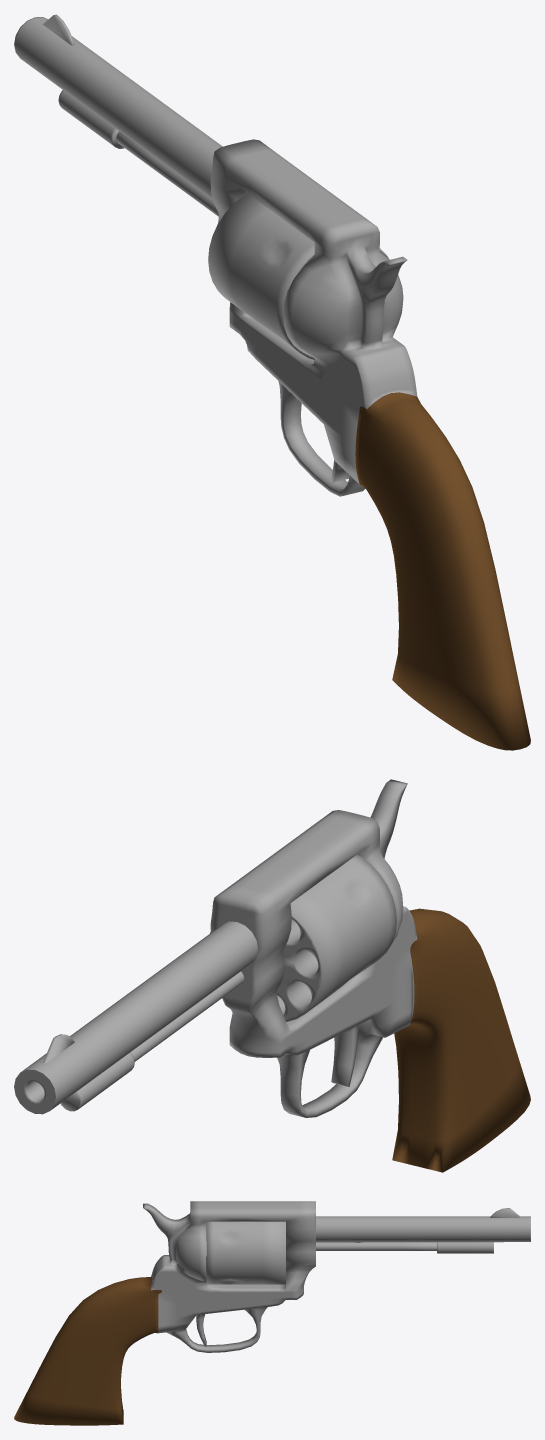
File: Item_Revolver 1.fbx
3 views of the same model, one above another, from view 1: azimuth 30°, elevation 25°; view 2: azimuth 150°, elevation 25°; view 3: azimuth 270°, elevation 25° (orthographic). The views are drawn at different scales.
Visible parts, largest first — view 1: Gun; view 2: Gun; view 3: Gun.
Boxes of the visible parts, x1=… form: Gun: x1=14, y1=14, x2=530, y2=750; Gun: x1=14, y1=779, x2=530, y2=1172; Gun: x1=14, y1=1201, x2=530, y2=1425.
Size of the model in its own units: 11.15 by 37.17 by 82.06.
